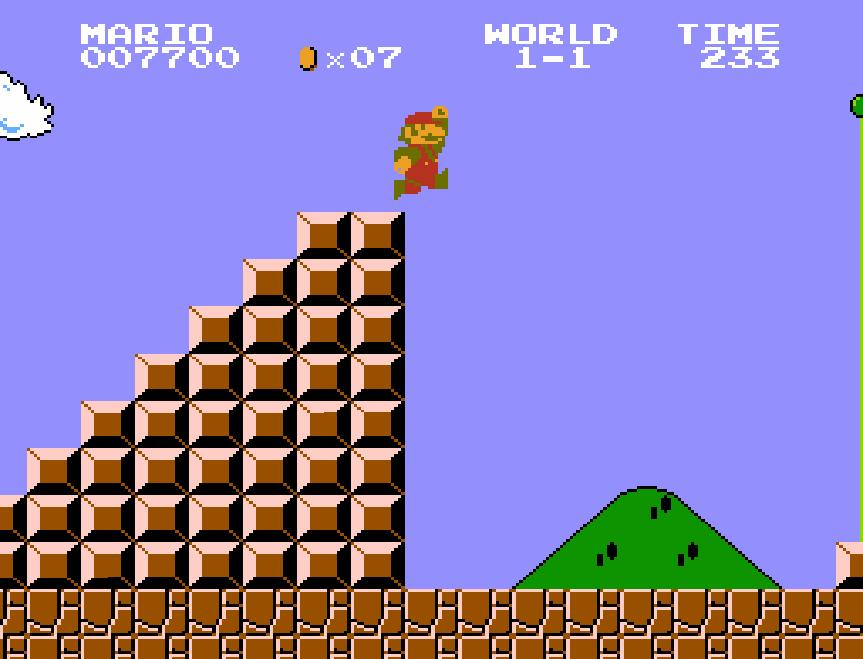big_mario: (392, 103, 450, 201)
